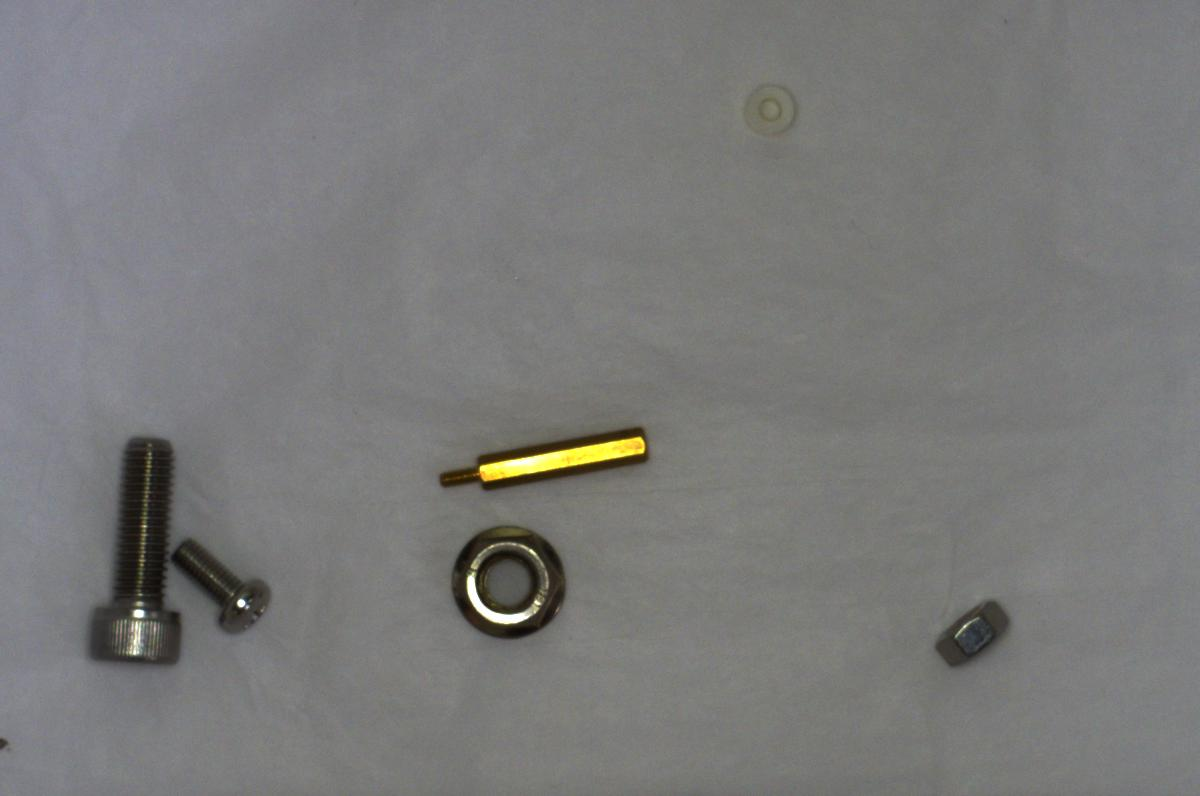Flange nut: (439, 515, 578, 650)
Hexagon nut: (931, 587, 1015, 679)
Hexagon pillar: (434, 414, 652, 505)
Hexagon screw: (77, 425, 186, 674)
Plastic cushion pillar: (731, 70, 800, 150)
Round head screw: (168, 536, 284, 638)
